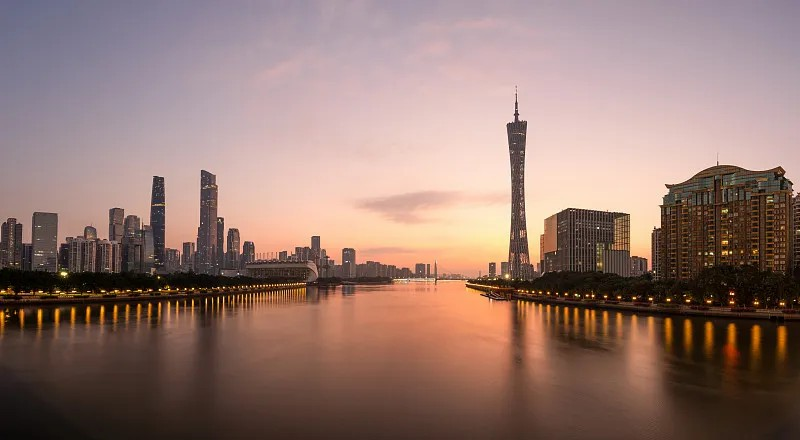Canton: (504, 84, 534, 282)
